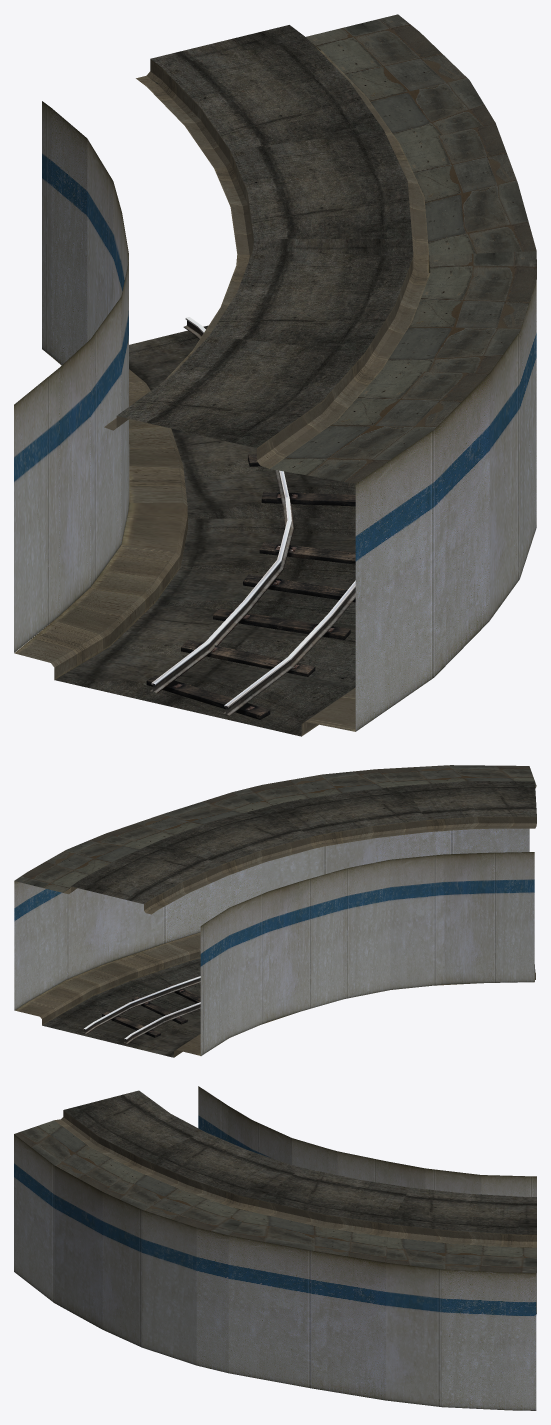
Rendered from MidTunnelBend.fbx.
3 renders of one model, top to bottom at view 1: azimuth 30°, elevation 25°; view 2: azimuth 150°, elevation 25°; view 3: azimuth 270°, elevation 25°, orthographic. The views are drawn at different scales.
Parts seen in each view (by area): view 1: MidTunnelBend; view 2: MidTunnelBend; view 3: MidTunnelBend.
Boxes of the visible parts, box(x1,y1,x2,y2) form: MidTunnelBend: box(14, 14, 536, 736); MidTunnelBend: box(14, 765, 536, 1057); MidTunnelBend: box(14, 1086, 536, 1410).
Size of the model in its own units: 1415 by 560 by 1674.
